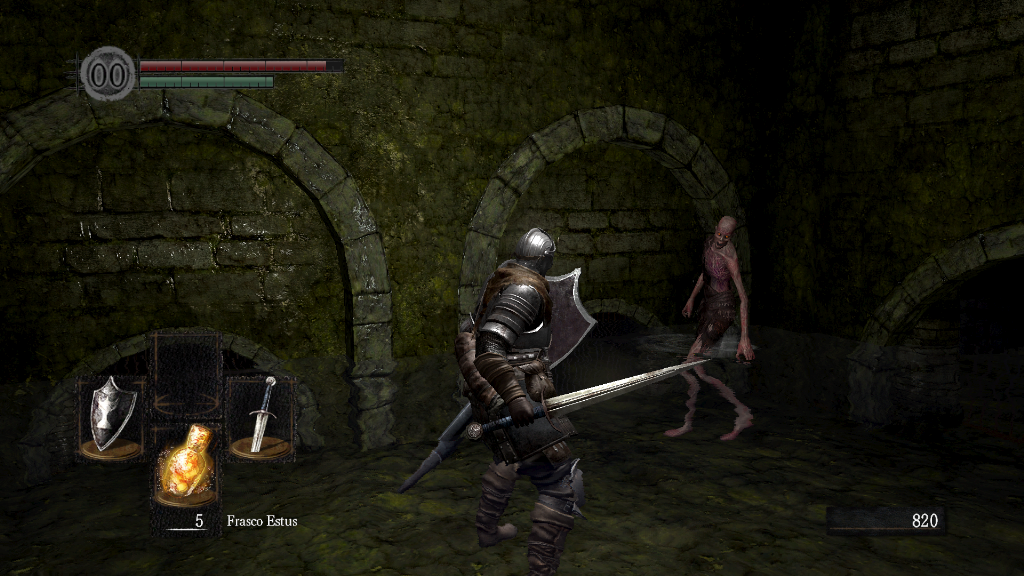health: (138, 58, 343, 71)
hollow: (667, 216, 757, 444)
humanity: (80, 45, 136, 102)
player: (398, 228, 712, 576)
souls: (825, 506, 945, 536)
stamina: (138, 74, 274, 88)
